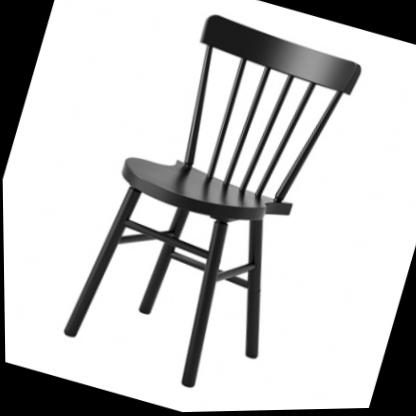Chair: (50, 0, 371, 415)
